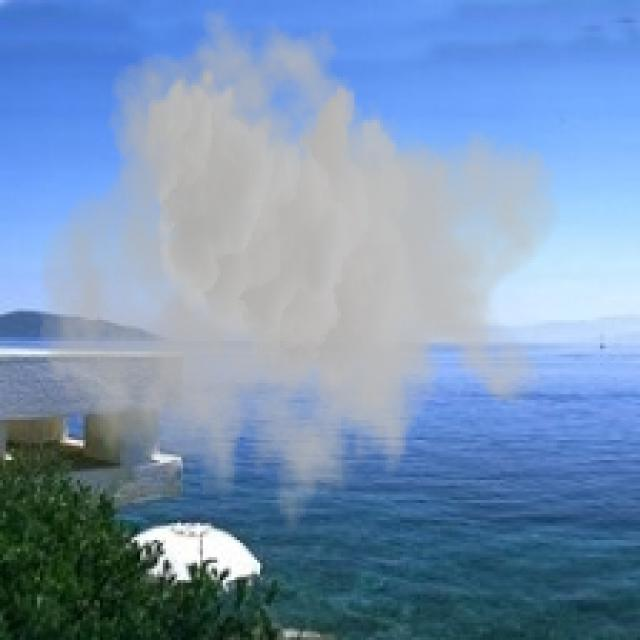smoke: (37, 6, 563, 557)
